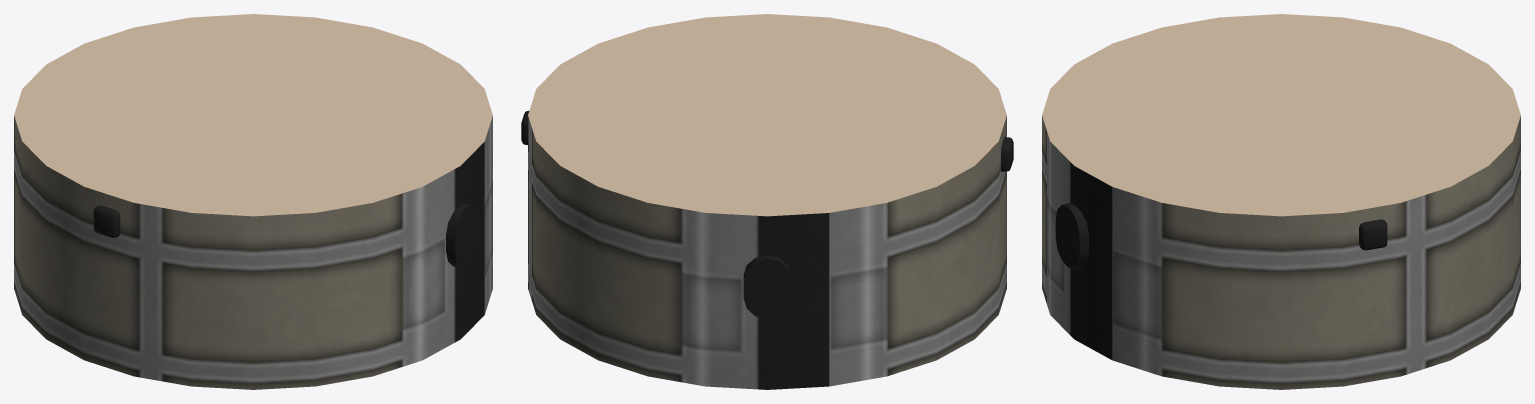
Rendered from fuel_tank.obj.
3 views of the same model, side by side, from view 1: azimuth 30°, elevation 25°; view 2: azimuth 150°, elevation 25°; view 3: azimuth 270°, elevation 25° (orthographic).
Visible parts, largest first — view 1: mesh2_image, mesh2_default; view 2: mesh2_image, mesh2_default; view 3: mesh2_image, mesh2_default.
Part boxes in pixels (x1,y1,x2,y2): mesh2_image: (14,116,492,389); mesh2_default: (14,14,492,216); mesh2_image: (521,110,1013,389); mesh2_default: (528,14,1006,216); mesh2_image: (1042,116,1520,389); mesh2_default: (1042,14,1520,216).
Size of the model in its own units: 1.25 by 0.5 by 1.25.
